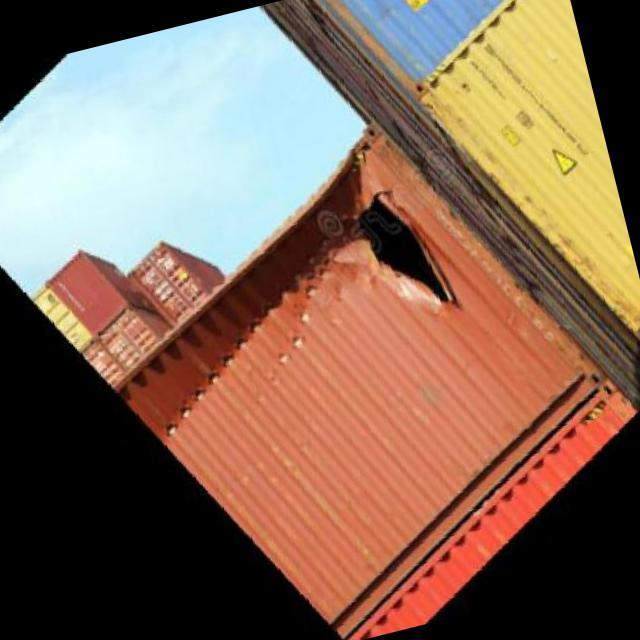hole: (324, 152, 470, 344)
